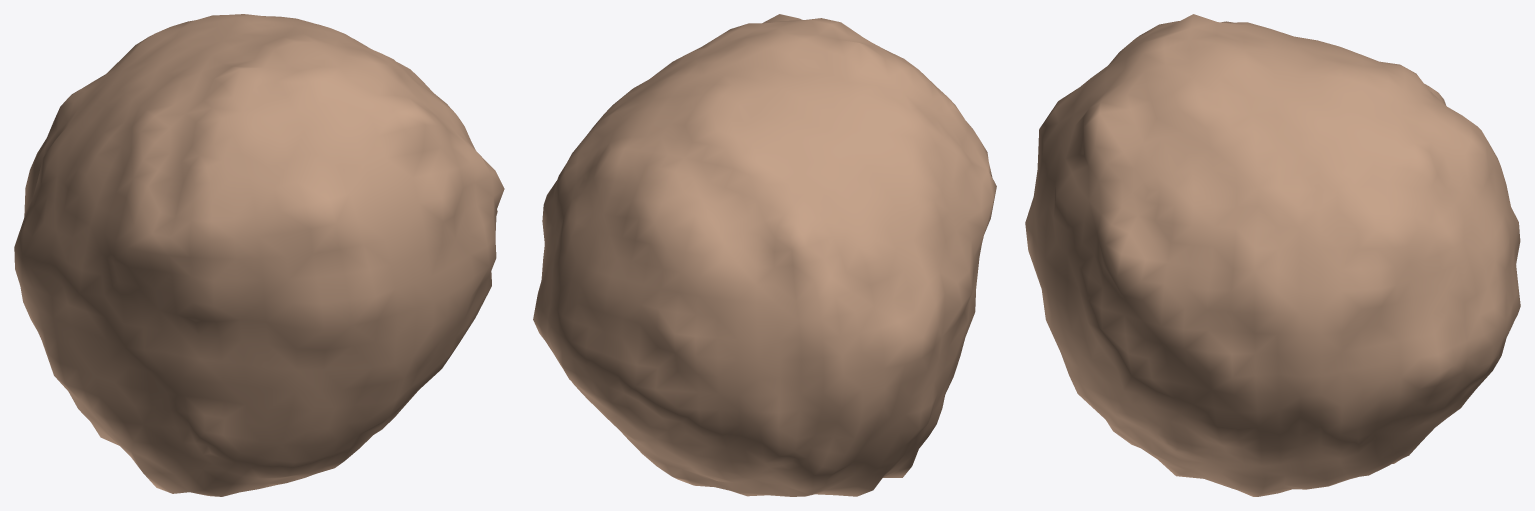
The model's file is y4rock.fbx.
3 renders of one model, left to right at view 1: azimuth 30°, elevation 25°; view 2: azimuth 150°, elevation 25°; view 3: azimuth 270°, elevation 25°, orthographic. The views are drawn at different scales.
Parts seen in each view (by area): view 1: sphere; view 2: sphere; view 3: sphere.
Boxes of the visible parts, <box> form: sphere: <box>14,14,504,496</box>; sphere: <box>533,14,996,496</box>; sphere: <box>1025,14,1520,496</box>.
Bounding box in the file's own units: 224 × 227 × 234.
